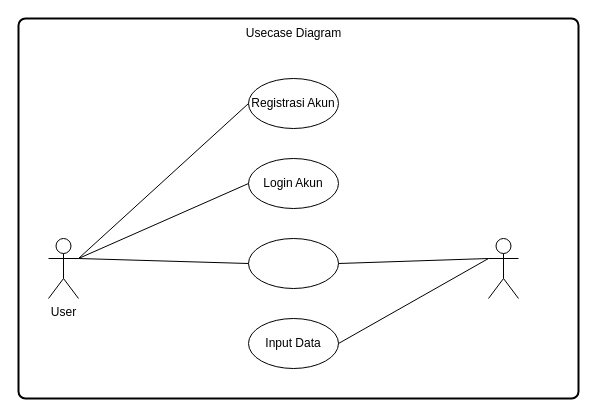
This 596x416 diagram has some shape labels left out. Each missing label, with the centre of its shape:
"Admin" belongs at [503,268].
"View Data" belongs at [293,263].
